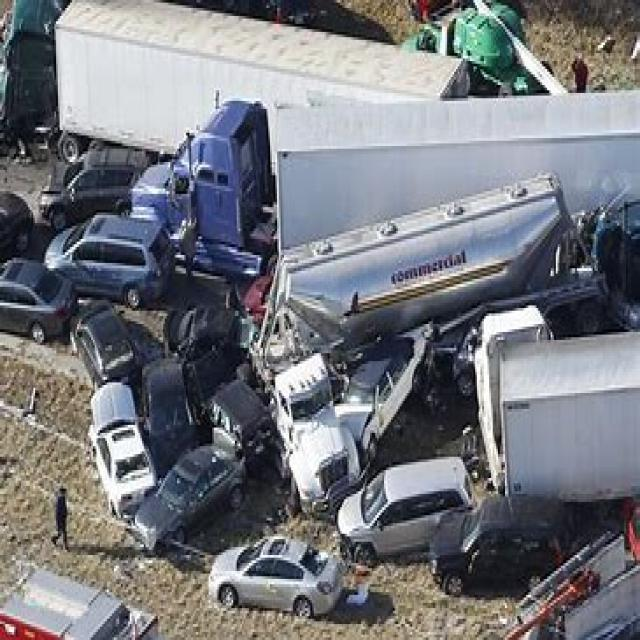Accident: (77, 88, 640, 630)
